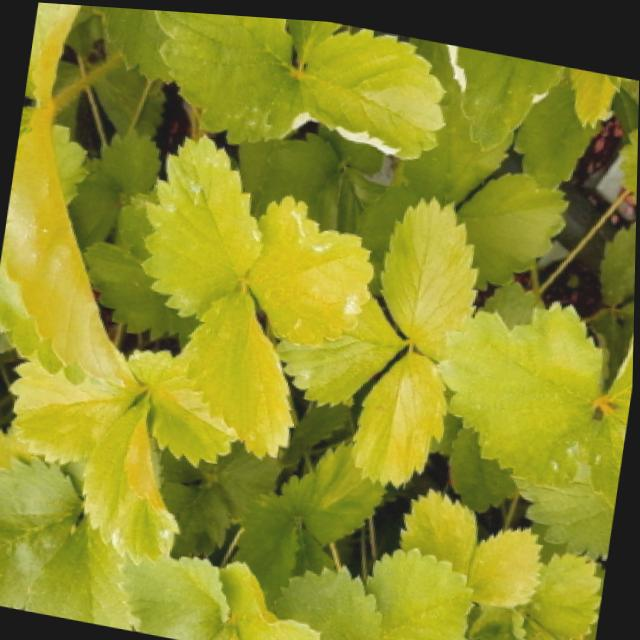Powdery Mildew Leaf: (437, 293, 611, 466), (141, 129, 264, 314), (150, 8, 313, 139), (247, 189, 376, 339), (302, 22, 444, 153), (82, 393, 182, 563), (275, 290, 409, 403), (441, 36, 565, 144), (586, 394, 631, 502)
